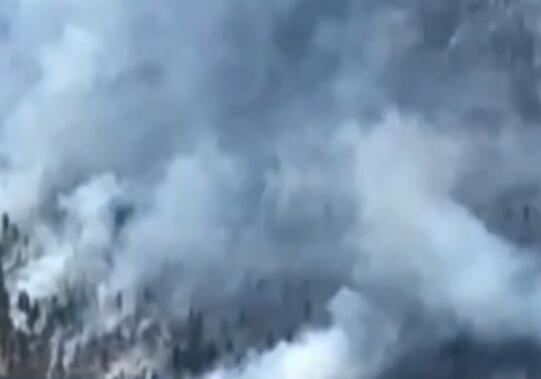yanwu: (5, 1, 540, 377)
